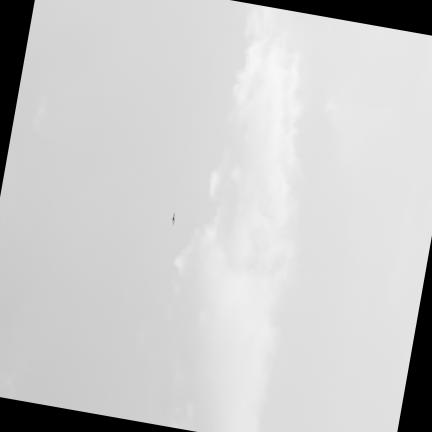Shahed: (170, 211, 176, 225)
